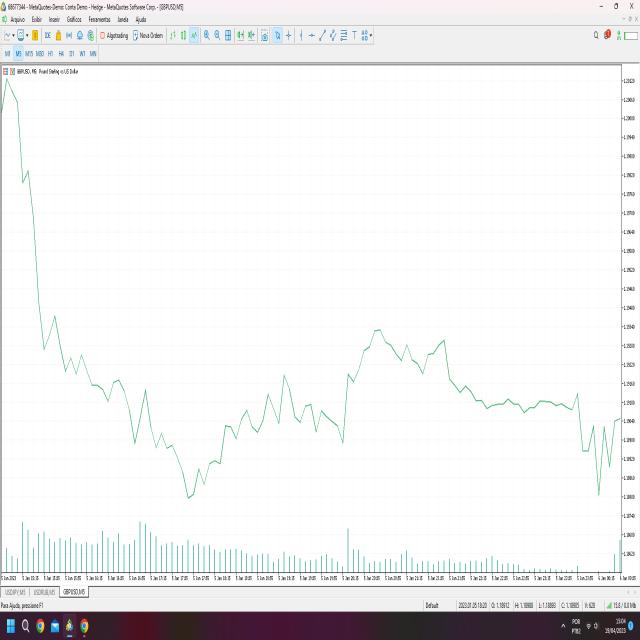oco_inv: (575, 383, 619, 508)
